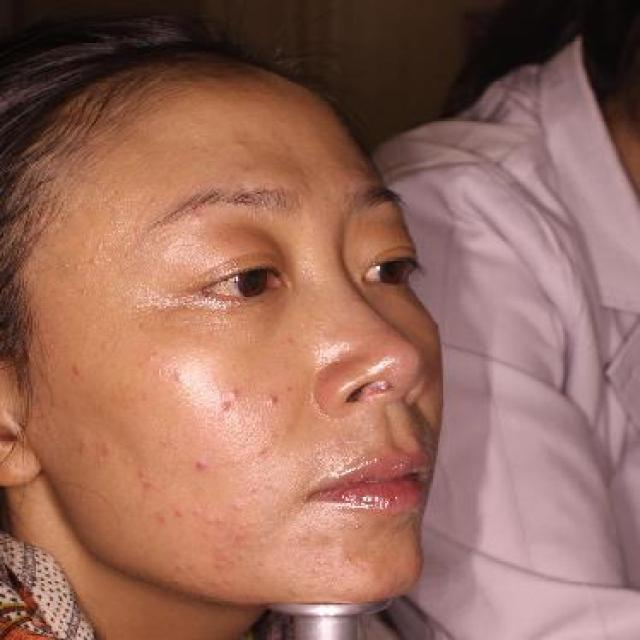papules: (188, 456, 214, 476), (224, 384, 245, 404), (214, 397, 234, 415), (266, 392, 282, 410)
